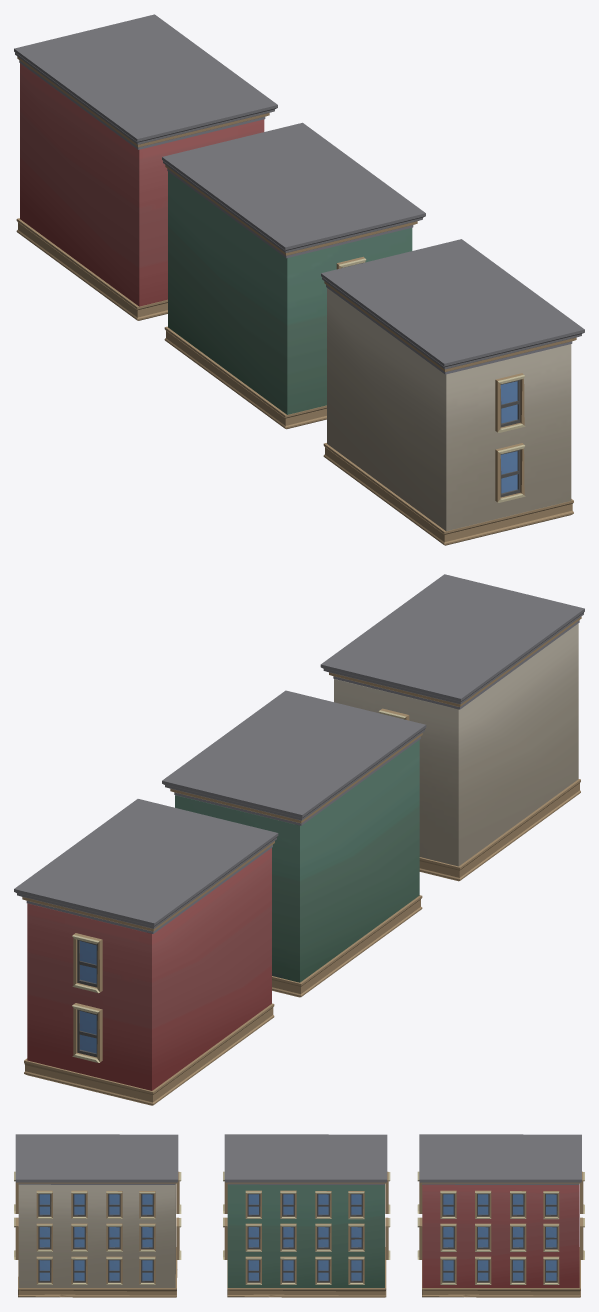
The model's file is 3 Buildings.fbx.
3 views of the same model, one above another, from view 1: azimuth 30°, elevation 25°; view 2: azimuth 150°, elevation 25°; view 3: azimuth 270°, elevation 25° (orthographic). The views are drawn at different scales.
Parts seen in each view (by area): view 1: Building_4, Building_5, Building_6; view 2: Building_6, Building_4, Building_5; view 3: Building_5, Building_4, Building_6.
Part boxes in pixels (left/top/right/bottom): Building_4: left=321, top=239, right=584, bottom=545; Building_5: left=162, top=122, right=425, bottom=429; Building_6: left=14, top=14, right=277, bottom=320; Building_6: left=14, top=799, right=278, bottom=1105; Building_4: left=320, top=574, right=584, bottom=881; Building_5: left=162, top=690, right=426, bottom=997; Building_5: left=223, top=1134, right=390, bottom=1297; Building_4: left=14, top=1134, right=181, bottom=1297; Building_6: left=417, top=1134, right=584, bottom=1297.
Bounding box in the file's own units: 289 × 361 × 1539.
